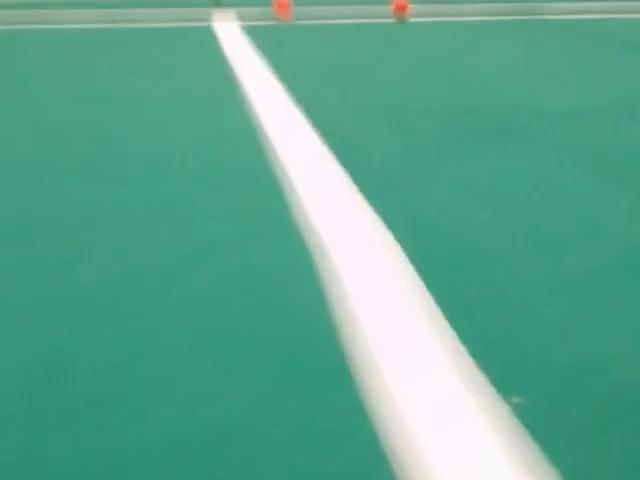Ball: (390, 0, 409, 19)
